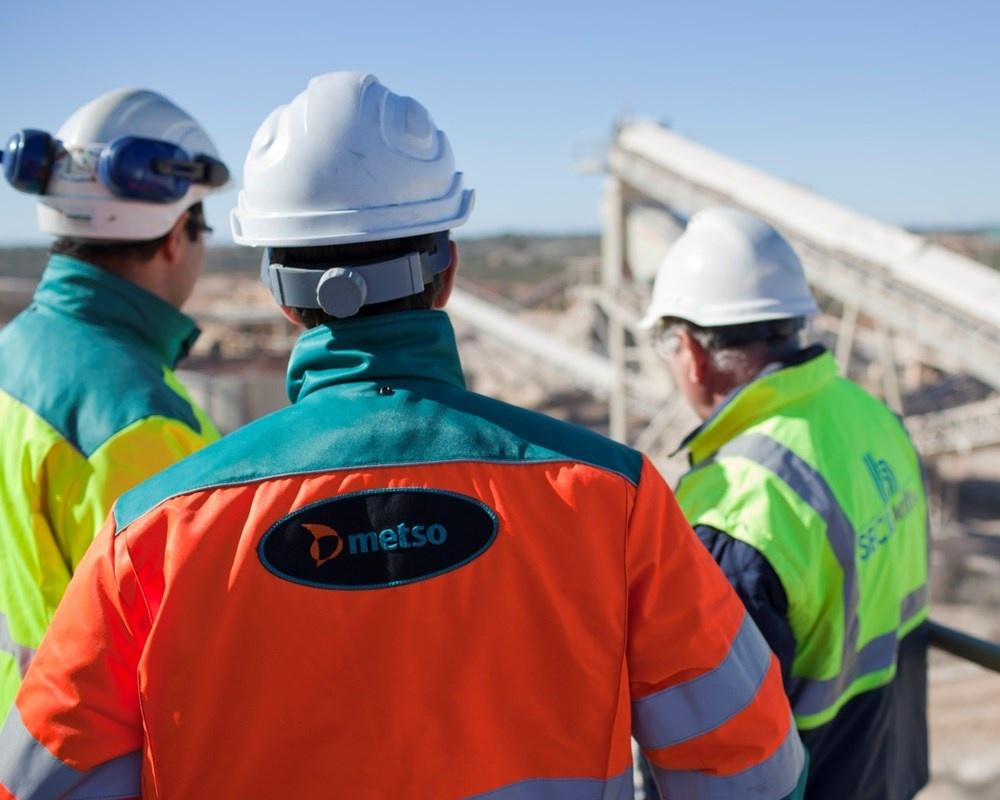Helmet: (243, 74, 475, 326), (657, 207, 823, 393)
Vest: (682, 386, 945, 798)
